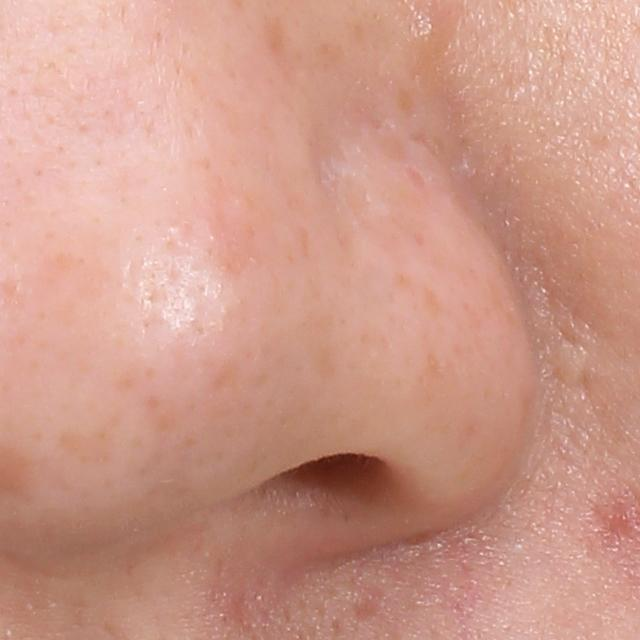comedo: (419, 13, 443, 46)
